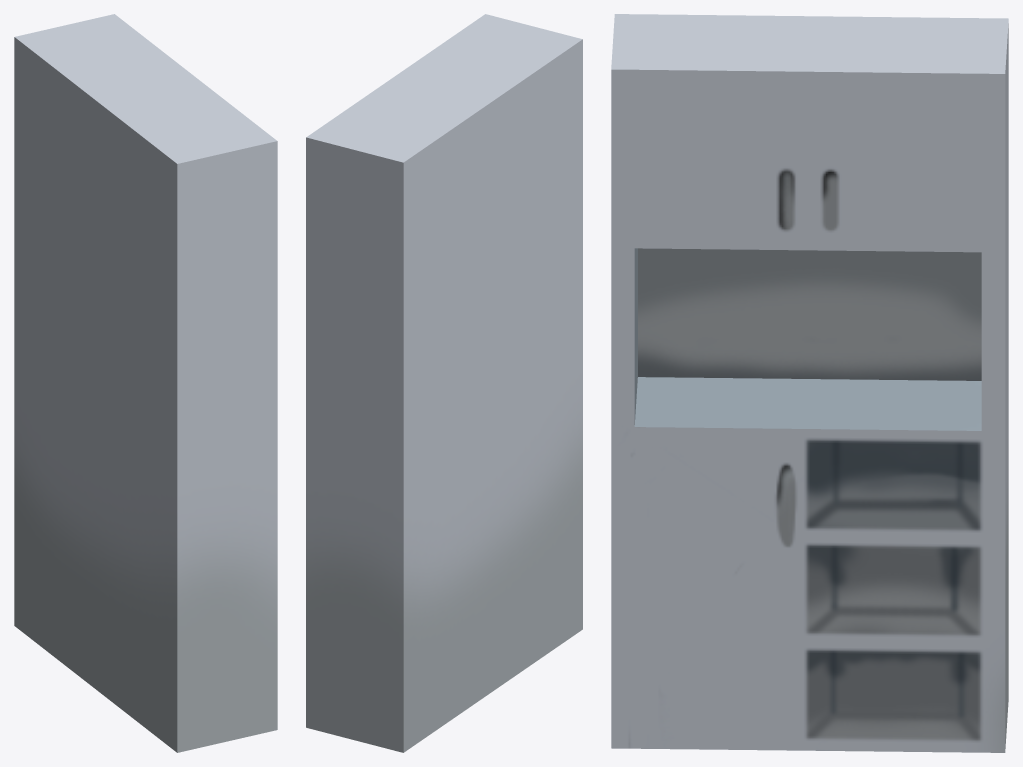
The model's file is BgMD_Shelf_pattern2.fbx.
3 views of the same model, side by side, from view 1: azimuth 30°, elevation 25°; view 2: azimuth 150°, elevation 25°; view 3: azimuth 270°, elevation 25° (orthographic). The views are drawn at different scales.
Visible parts, largest first — view 1: BgMD_Shelf_pattern2; view 2: BgMD_Shelf_pattern2; view 3: BgMD_Shelf_pattern2.
Boxes of the visible parts, x1=… form: BgMD_Shelf_pattern2: x1=14, y1=14, x2=277, y2=752; BgMD_Shelf_pattern2: x1=306, y1=14, x2=582, y2=752; BgMD_Shelf_pattern2: x1=611, y1=14, x2=1008, y2=752.
Bounding box in the file's own units: 54.04 × 285 × 151.
